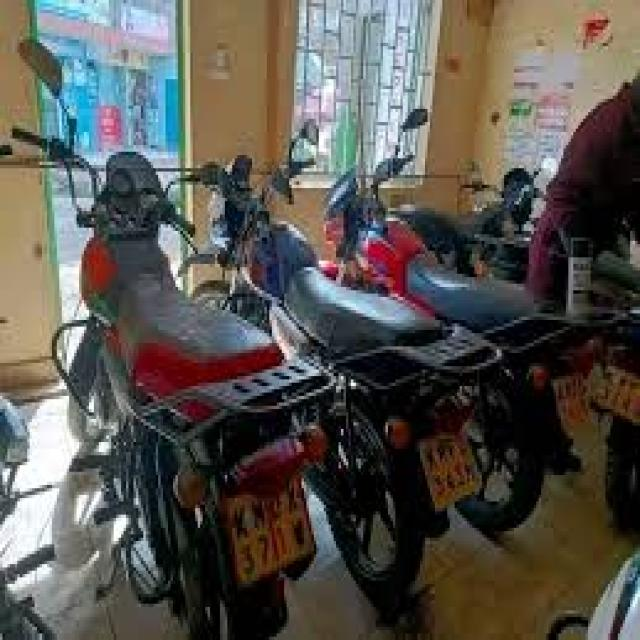bodaboda: (12, 12, 337, 640)
